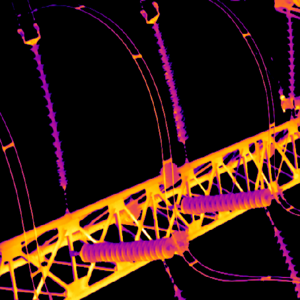insulator: (30, 40, 68, 190), (150, 20, 188, 143), (78, 235, 174, 263), (180, 186, 272, 212), (273, 221, 300, 300), (284, 5, 295, 103)
